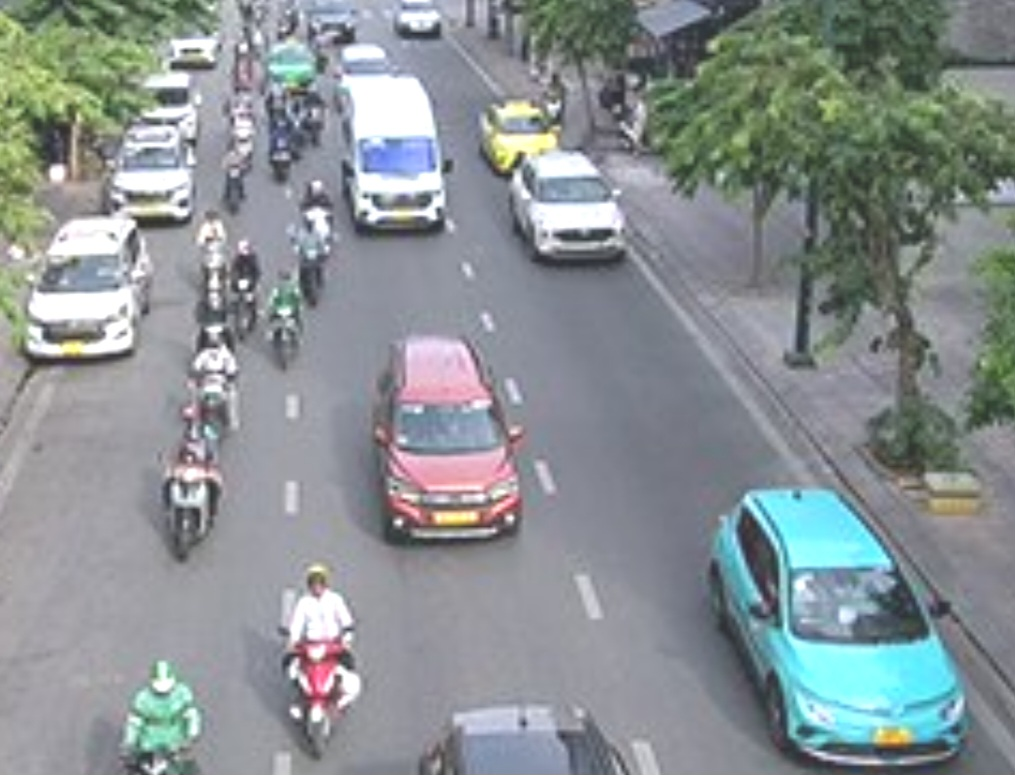car: (709, 482, 975, 767), (366, 334, 524, 548), (21, 219, 151, 360), (333, 75, 448, 233), (508, 148, 630, 262), (105, 130, 199, 224), (482, 100, 560, 168)
